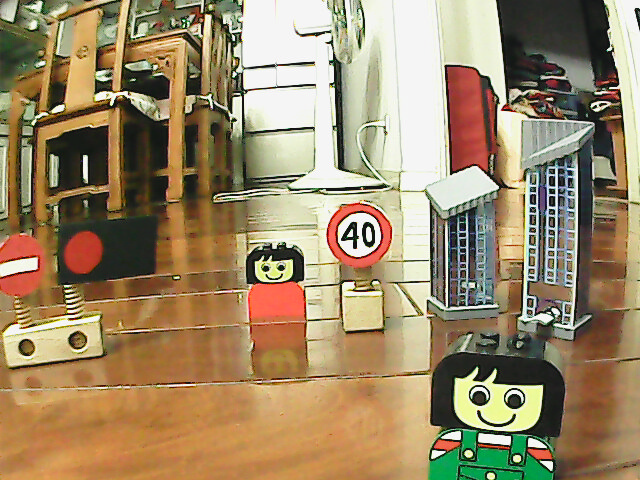Person: (242, 239, 309, 326)
Red Traffic Light: (58, 225, 108, 280)
Speed Limit 40: (324, 200, 394, 270)
Stop Sign: (1, 230, 48, 300)
